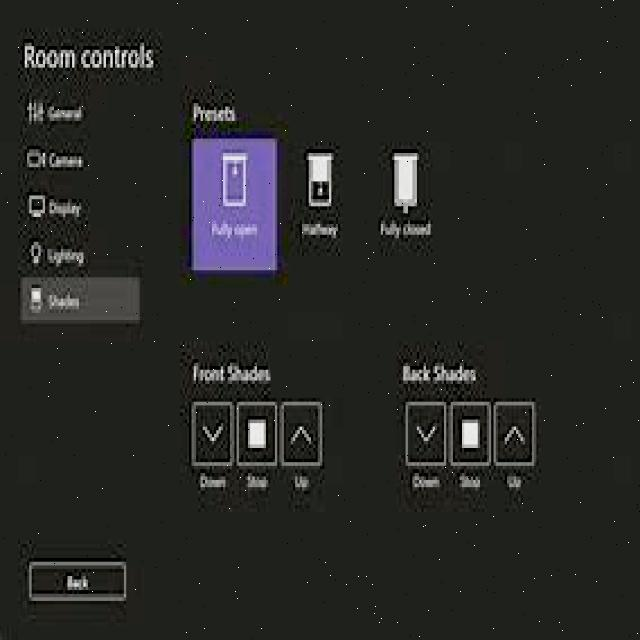button: (190, 132, 280, 272), (28, 557, 129, 605), (448, 399, 493, 469), (279, 399, 324, 468), (493, 398, 537, 468), (190, 399, 235, 467), (236, 398, 278, 468), (405, 399, 447, 468)
icon: (305, 149, 338, 210), (391, 149, 422, 212), (24, 97, 46, 128), (27, 191, 46, 218), (25, 146, 46, 170), (29, 284, 44, 314), (28, 237, 43, 265)
label: (21, 37, 155, 73), (188, 360, 278, 388), (400, 354, 480, 384), (375, 213, 439, 250), (187, 93, 244, 123), (298, 218, 340, 243), (46, 244, 86, 269), (48, 195, 84, 221), (47, 288, 82, 314), (49, 149, 86, 171), (47, 102, 84, 124), (410, 470, 444, 491), (198, 470, 228, 492), (456, 470, 484, 490), (244, 472, 271, 490), (291, 471, 314, 492), (502, 473, 524, 493)
